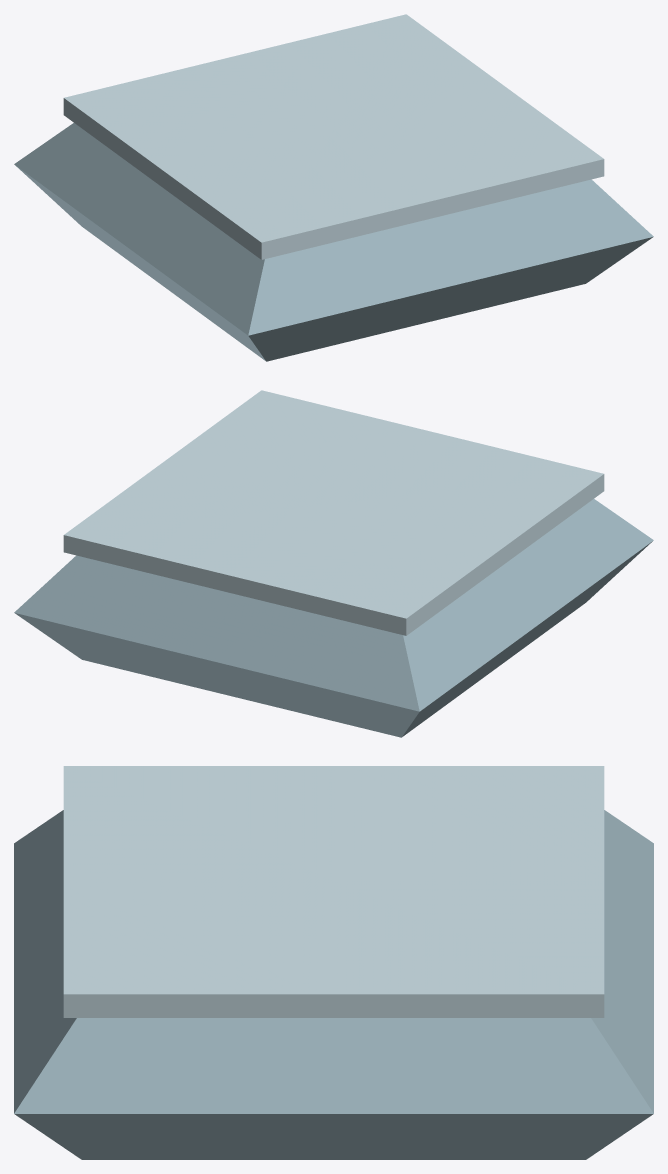
Rendered from CeilingLampV5.fbx.
3 renders of one model, top to bottom at view 1: azimuth 30°, elevation 25°; view 2: azimuth 150°, elevation 25°; view 3: azimuth 270°, elevation 25°, orthographic. The views are drawn at different scales.
Parts seen in each view (by area): view 1: CeilingLampV5; view 2: CeilingLampV5; view 3: CeilingLampV5.
Part boxes in pixels (x1,y1,x2,y2): CeilingLampV5: [14, 14, 653, 361]; CeilingLampV5: [14, 390, 653, 737]; CeilingLampV5: [14, 766, 653, 1159].
Bounding box in the file's own units: 48.39 × 14.45 × 48.39.
